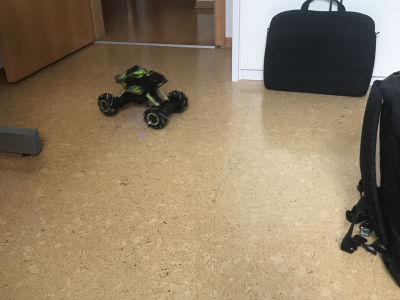remote control car: (95, 62, 190, 130)
